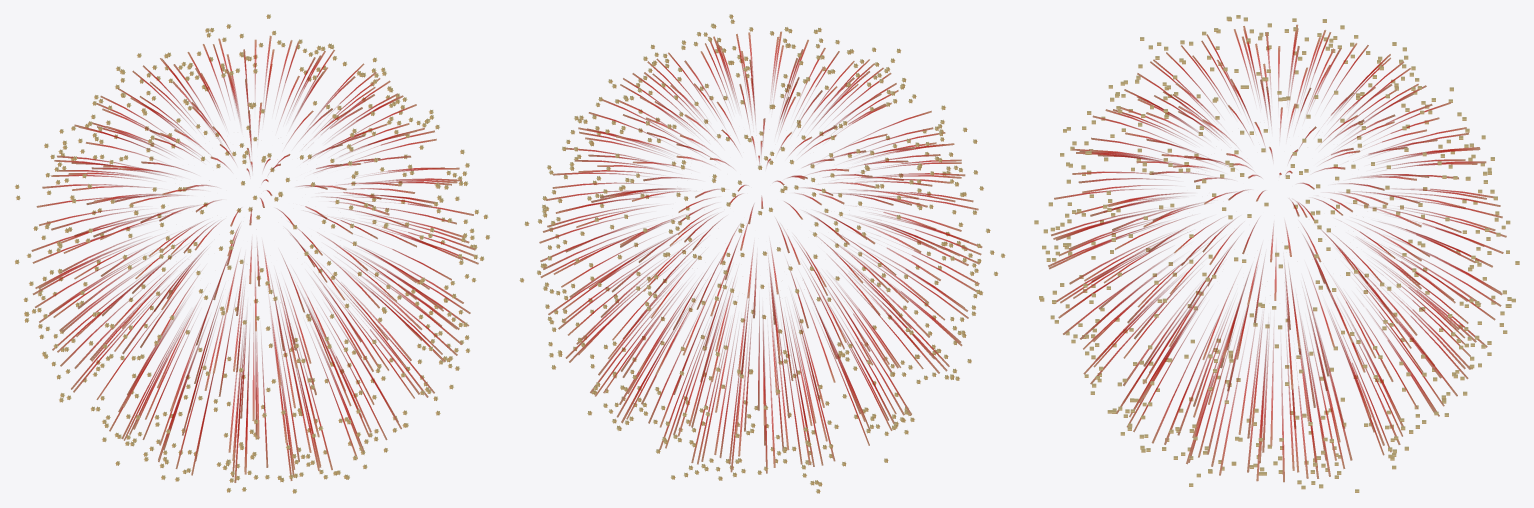
File: fw_chrys_red_gold_b.glb
3 renders of one model, left to right at view 1: azimuth 30°, elevation 25°; view 2: azimuth 150°, elevation 25°; view 3: azimuth 270°, elevation 25°, orthographic. The views are drawn at different scales.
Parts seen in each view (by area): view 1: spire; view 2: spire; view 3: spire.
Boxes of the visible parts, left/top/right/bottom form: spire: left=15, top=14, right=489, bottom=493; spire: left=519, top=14, right=1005, bottom=493; spire: left=1034, top=15, right=1519, bottom=492.
Bounding box in the file's own units: 24.95 × 25.14 × 24.9.
Materials: 2 (2 with a texture image).
